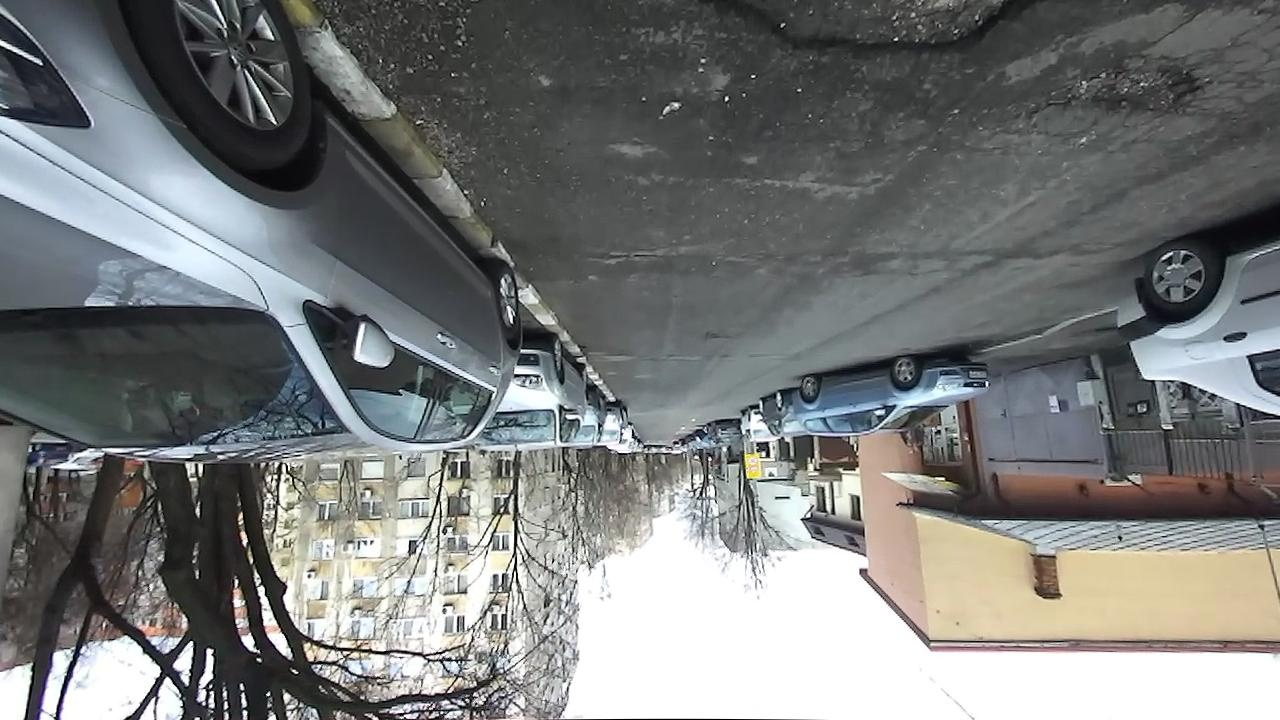pothole: (697, 0, 1062, 64), (1029, 53, 1214, 124), (592, 245, 678, 269)
